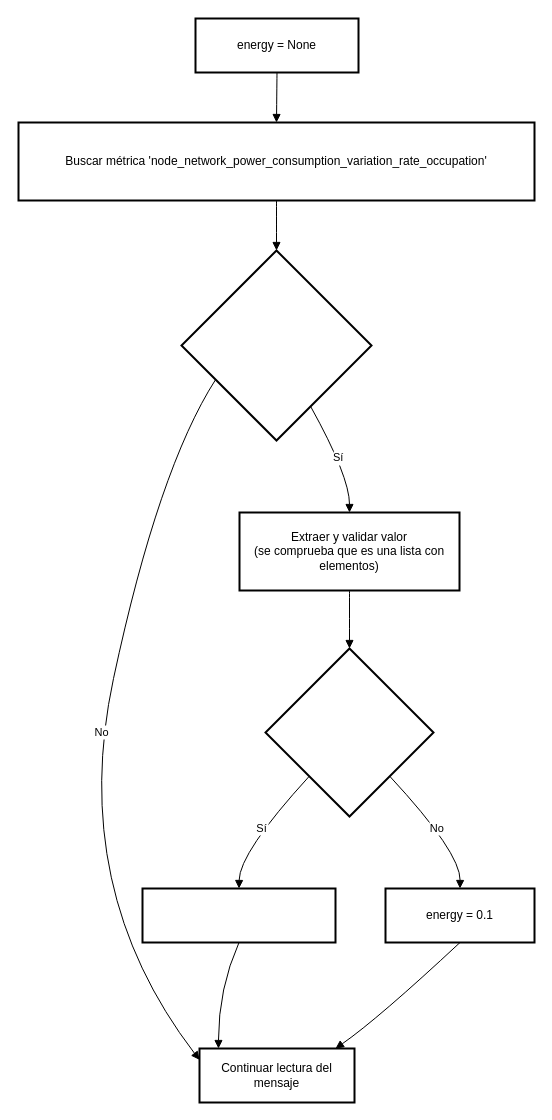
This 552x1120 diagram has some shape labels left out. The centre of each missing label's shape, as x and y in pixels:
energy = float(val): the point at 238,915
¿Encontró métrica?: the point at 276,345
¿ENERGYAWARE?: the point at 349,732
